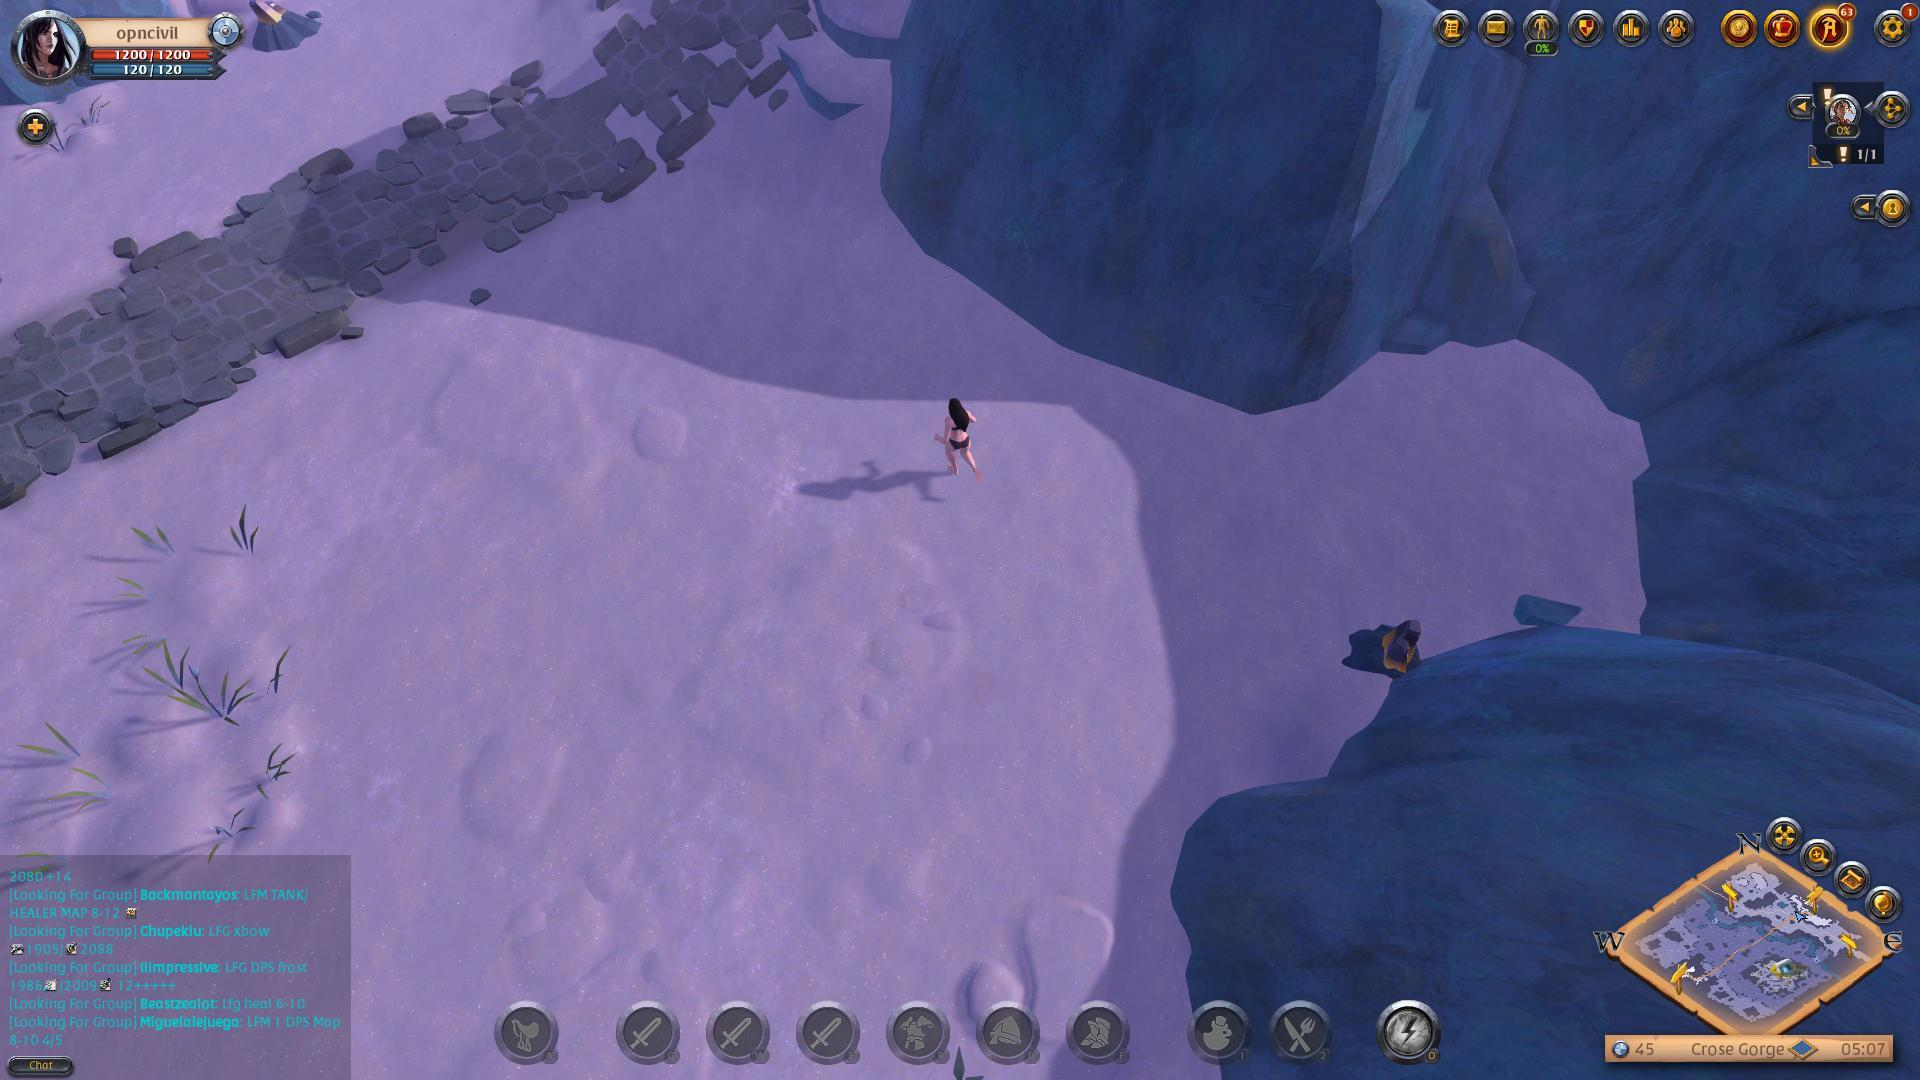copper_ore: (1346, 603, 1429, 686), (237, 0, 330, 61)
